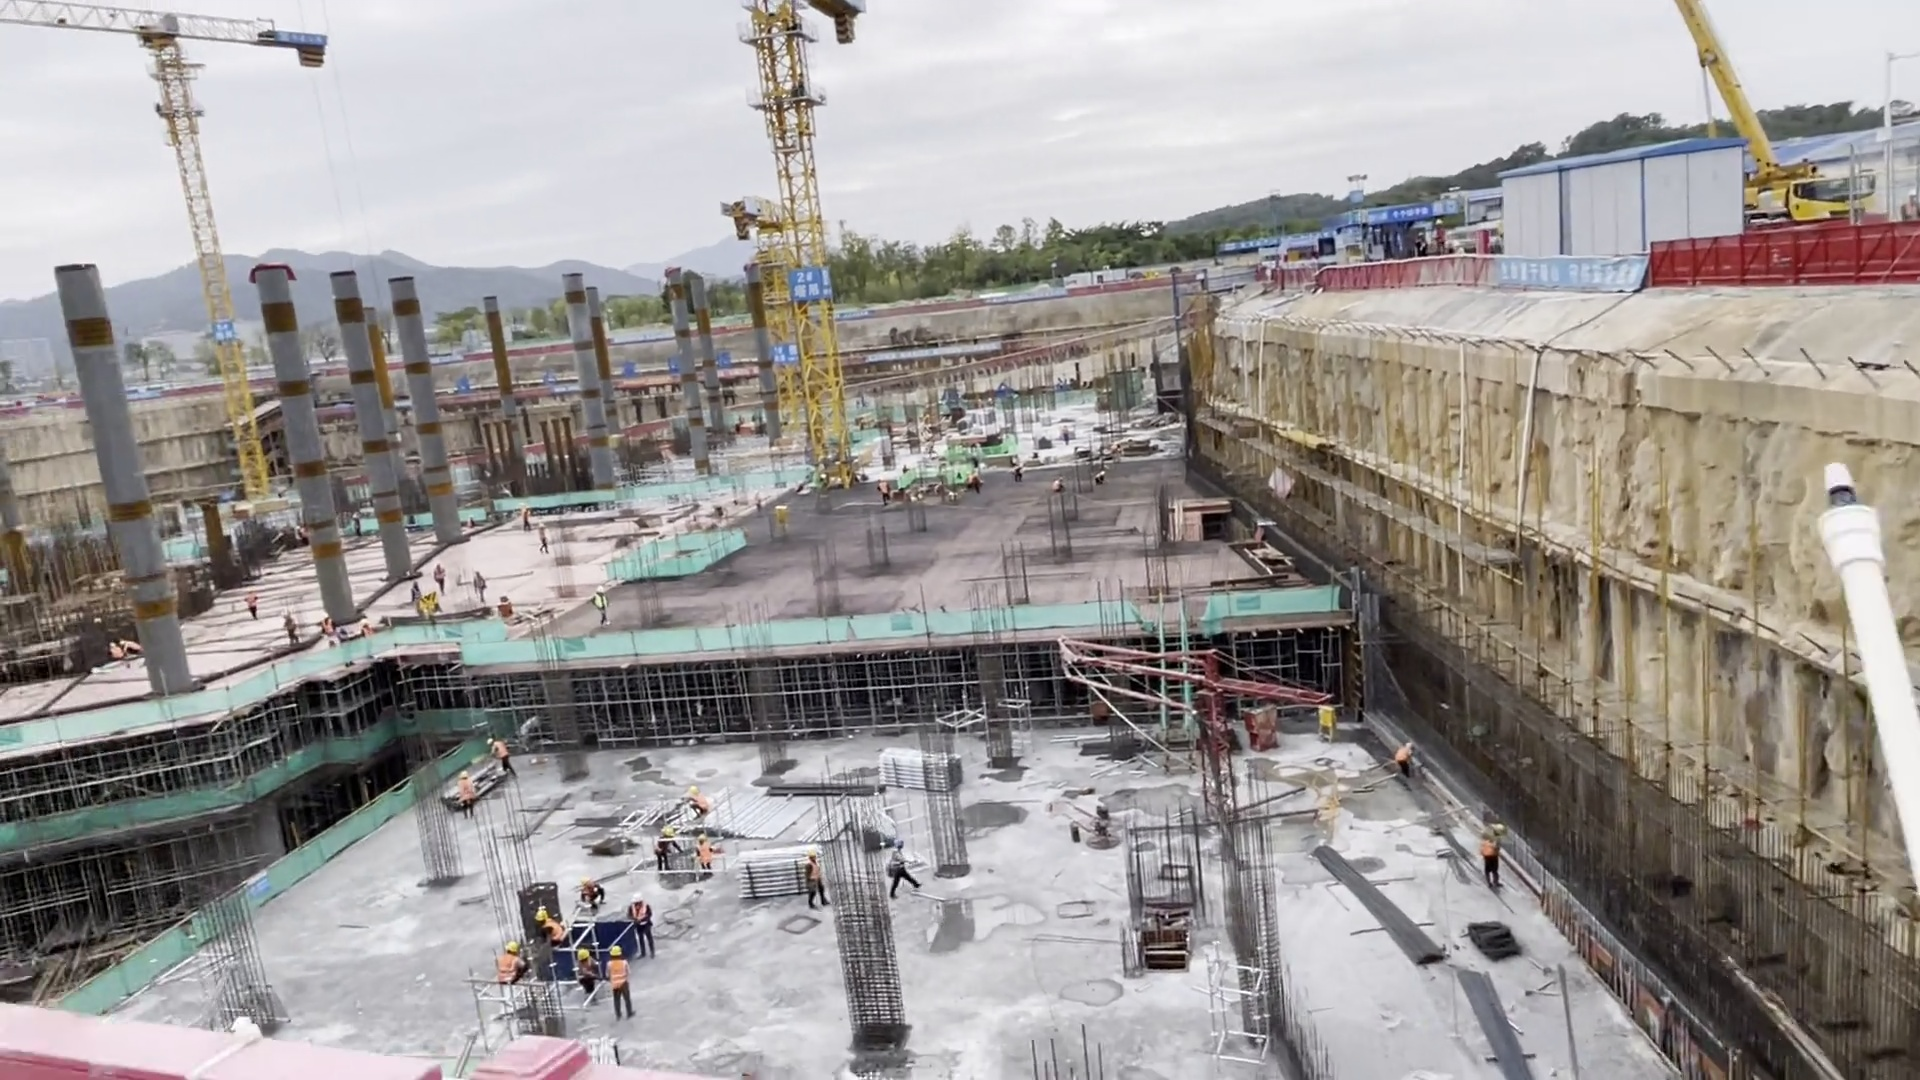helmet: (606, 938, 646, 961), (497, 935, 532, 953)
person: (617, 881, 658, 953), (877, 836, 913, 897), (802, 847, 830, 904), (481, 733, 512, 777), (531, 906, 566, 943), (1389, 733, 1418, 776), (455, 767, 478, 819), (681, 780, 709, 819), (689, 835, 712, 880), (594, 581, 617, 626), (880, 480, 909, 514), (512, 501, 536, 534), (277, 607, 299, 641), (575, 876, 600, 906), (505, 940, 528, 973), (570, 944, 599, 968), (602, 943, 625, 970), (538, 517, 553, 554), (1042, 472, 1062, 498), (407, 583, 425, 609), (432, 563, 447, 592), (243, 592, 257, 618), (471, 572, 485, 597), (1095, 466, 1109, 487), (1016, 460, 1025, 479)
